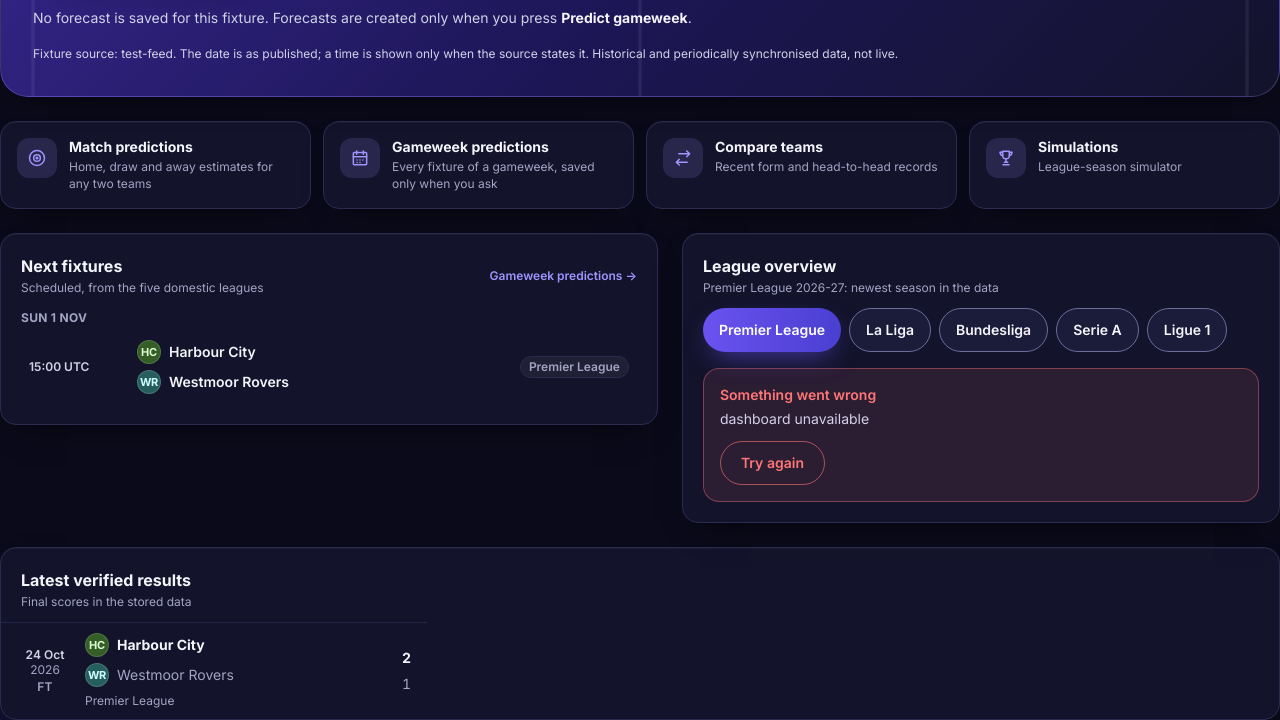
Test: Home: league overview › shows a failure on the card and fetches the table again on request
(page scrolled)
Expected: the message shows "dashboard unavailable", [720,410,869,427]
Click the button "Try again" at (772, 463), box [720,441,825,485]
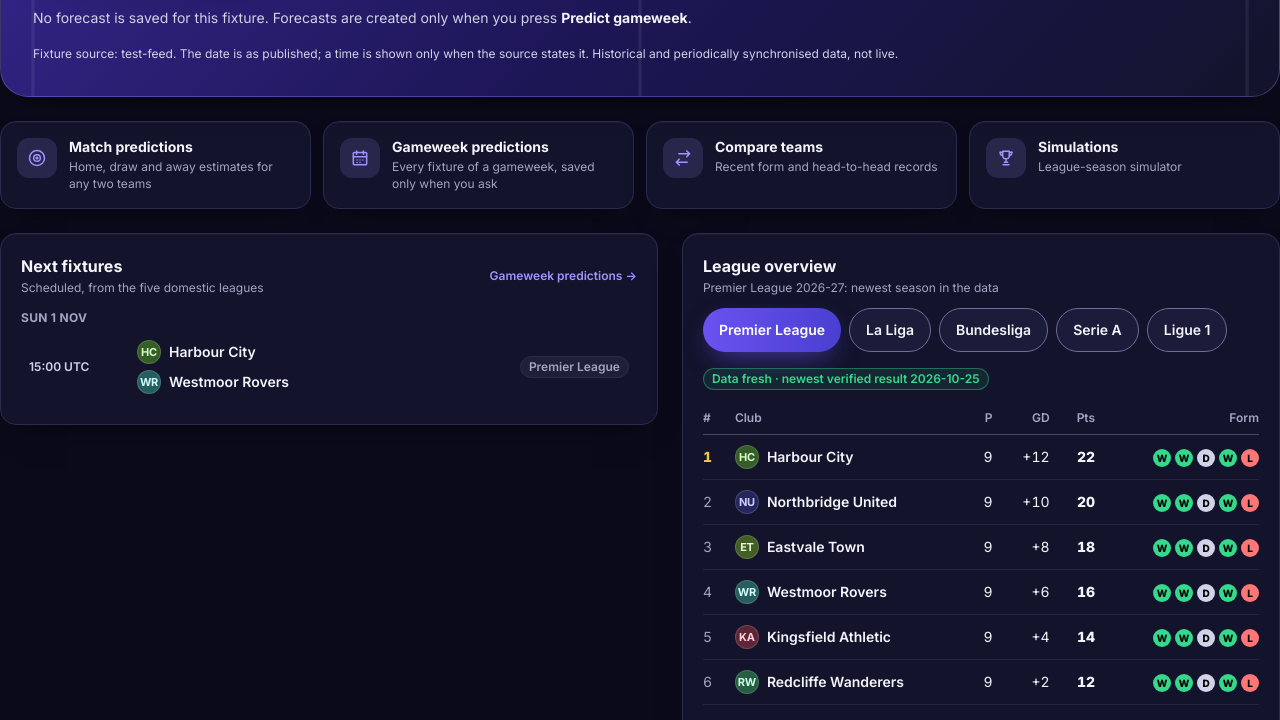
Now the table is shown, box [703,402,1259,705]
